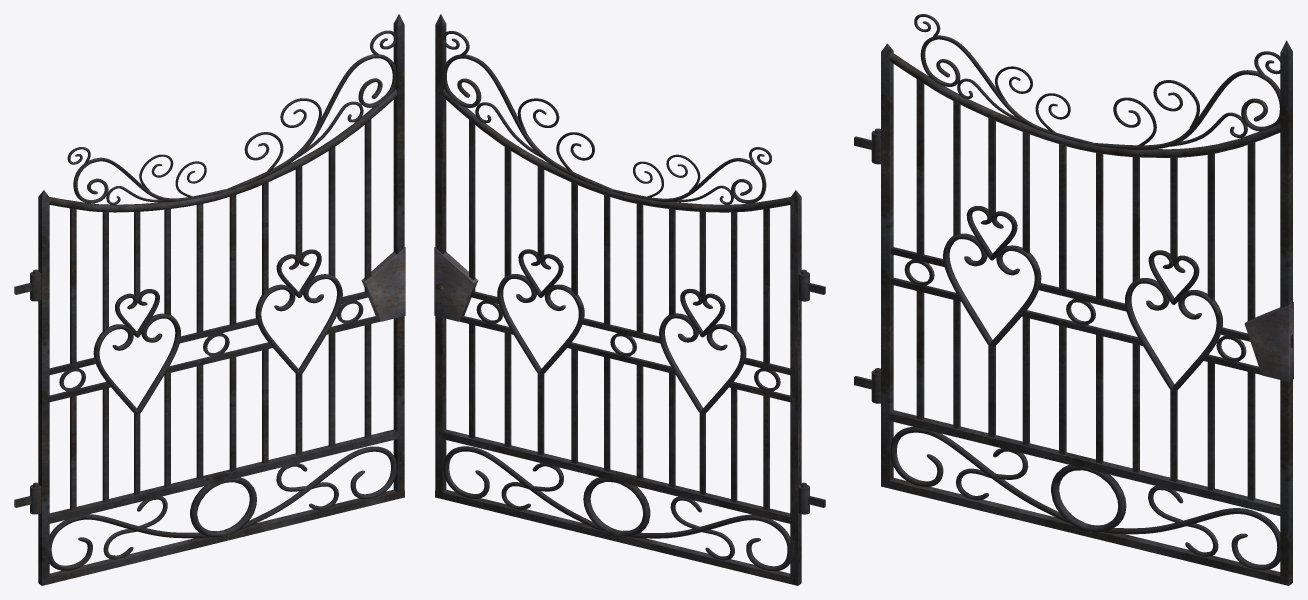
Rendered from GateUp.obj.
3 views of the same model, side by side, from view 1: azimuth 30°, elevation 25°; view 2: azimuth 150°, elevation 25°; view 3: azimuth 330°, elevation 25° (orthographic). The views are drawn at different scales.
Visible parts, largest first — view 1: Ancient_Gate_Model gate_main gate_right polySurface192 polySurfa; view 2: Ancient_Gate_Model gate_main gate_right polySurface192 polySurfa; view 3: Ancient_Gate_Model gate_main gate_right polySurface192 polySurfa.
Part boxes in pixels (<box>): Ancient_Gate_Model gate_main gate_right polySurface192 polySurfa: <box>30,14,405,585</box>; Ancient_Gate_Model gate_main gate_right polySurface192 polySurfa: <box>434,14,809,585</box>; Ancient_Gate_Model gate_main gate_right polySurface192 polySurfa: <box>871,14,1293,585</box>.
Bounding box in the file's own units: 14.27 × 16.94 × 0.3358.
1 material, 1 textured.
